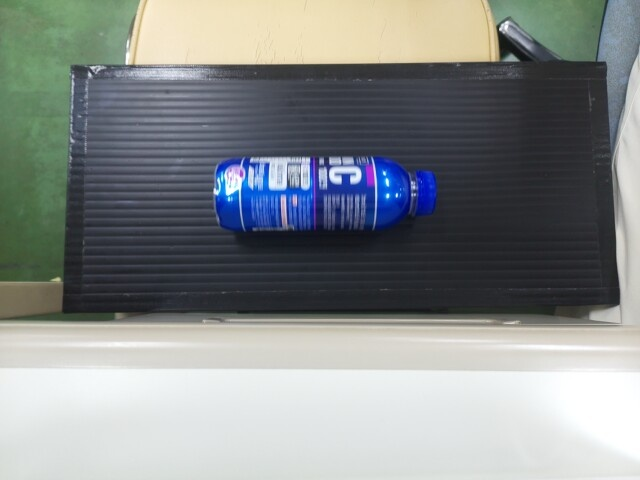plastic_bottle: (209, 152, 435, 232)
